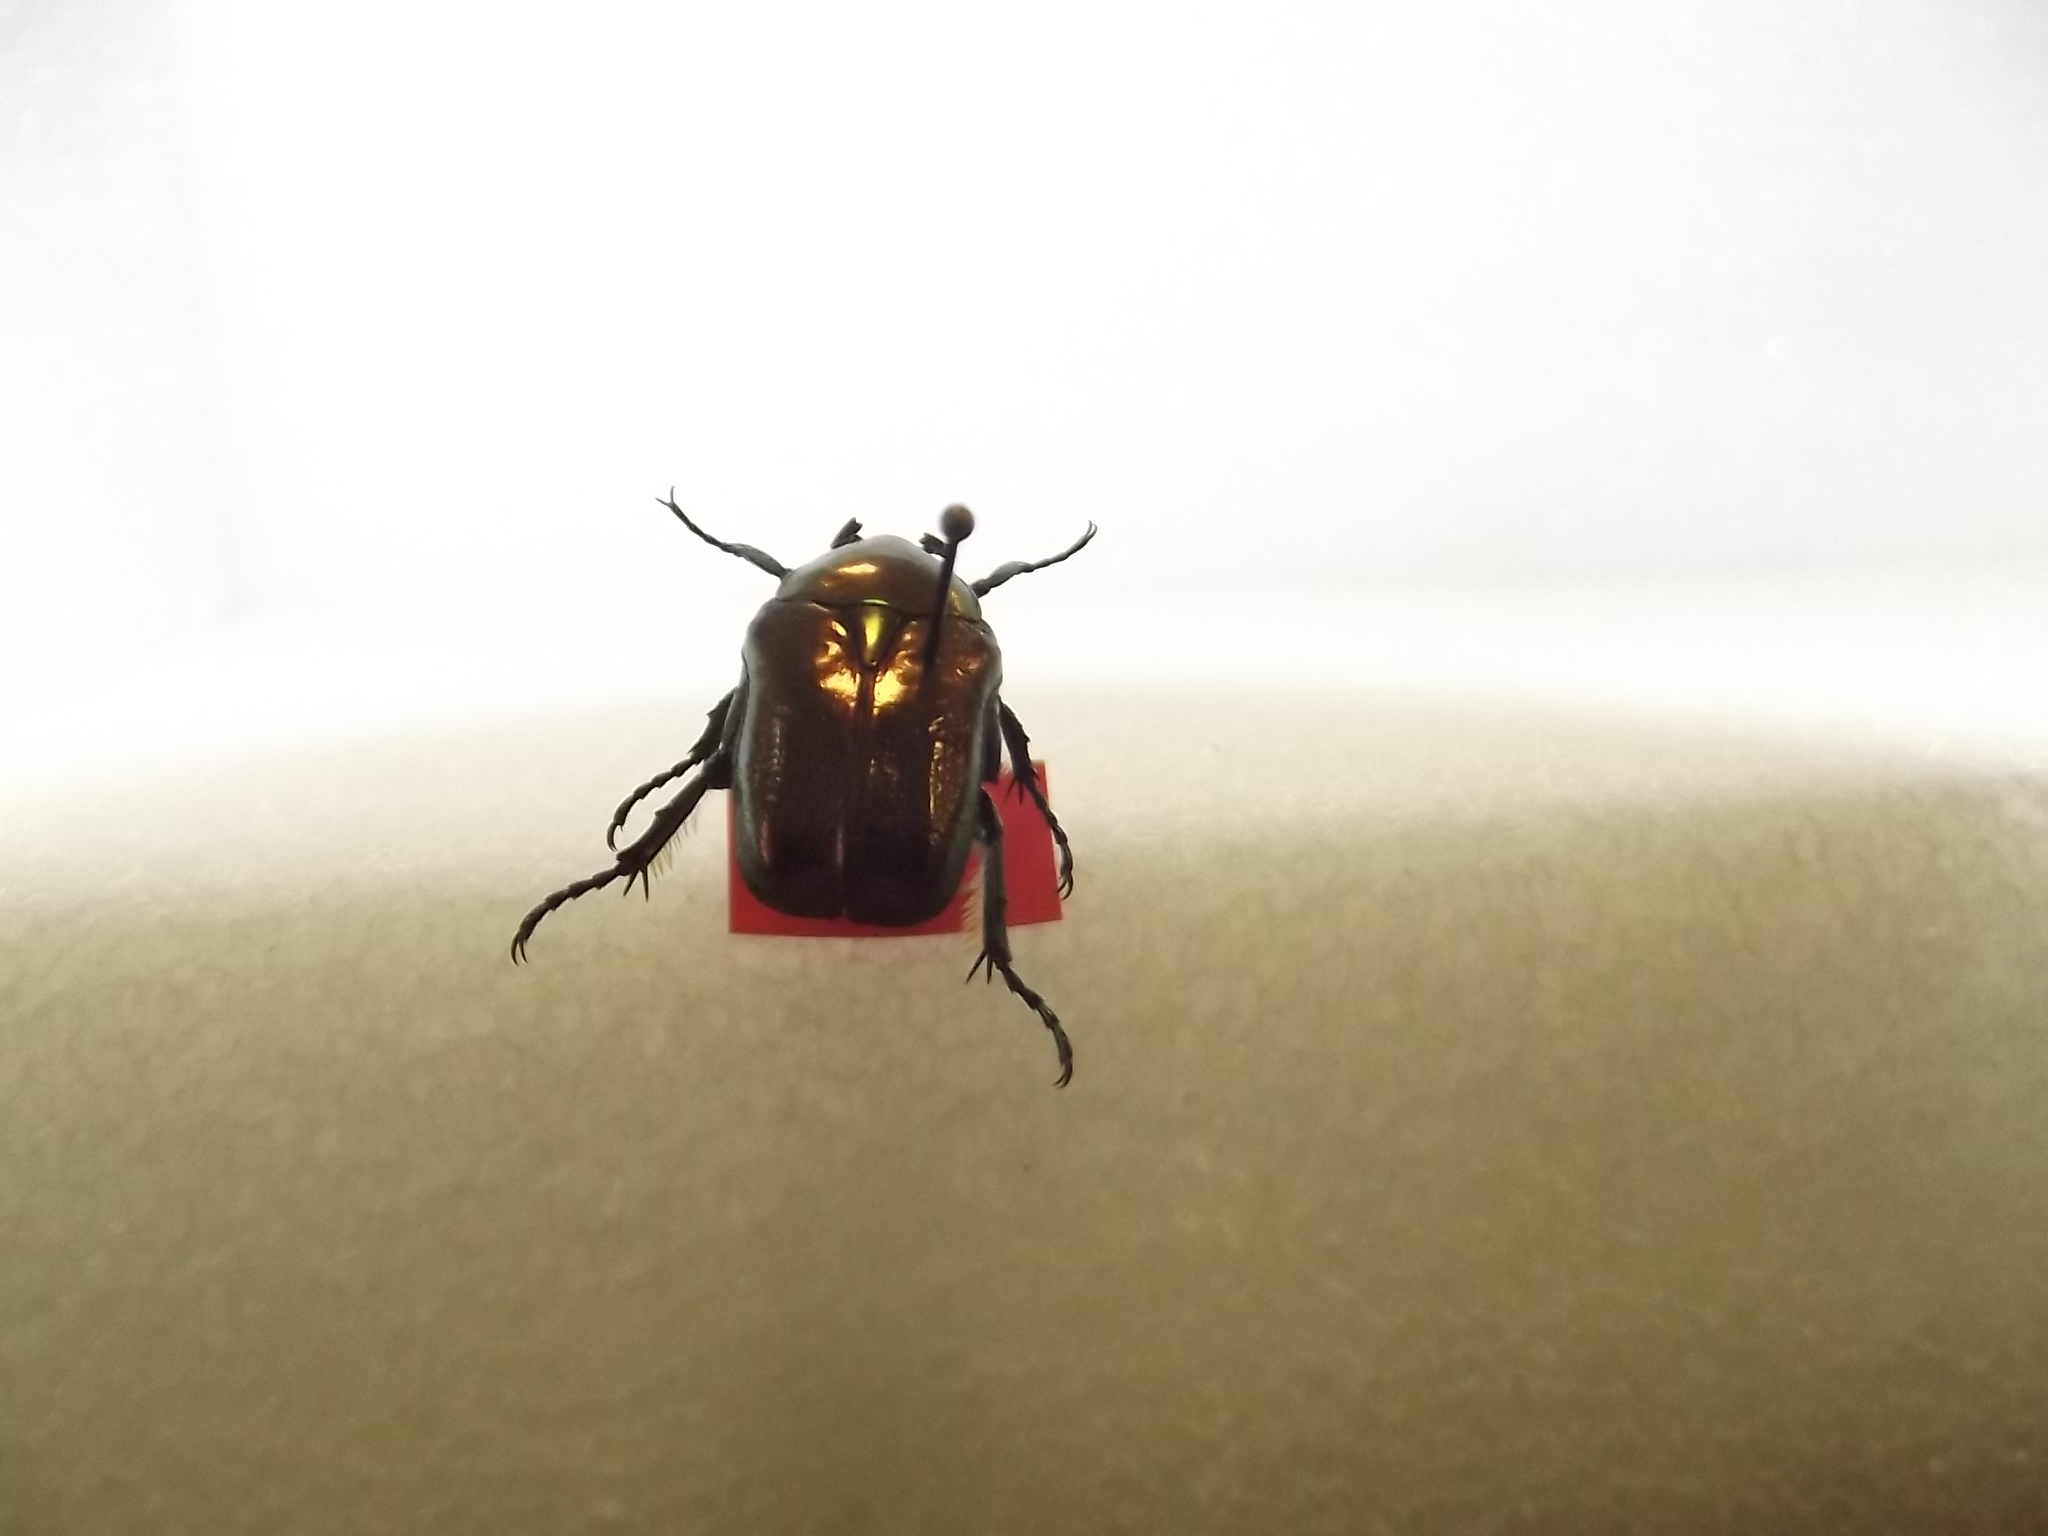Protaetia_besucheti: (493, 457, 1150, 1115)
